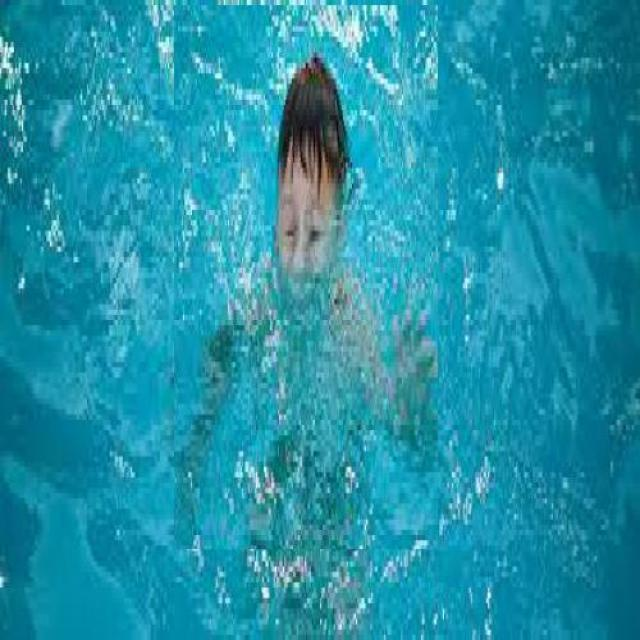Out of Water: (188, 37, 420, 335)
